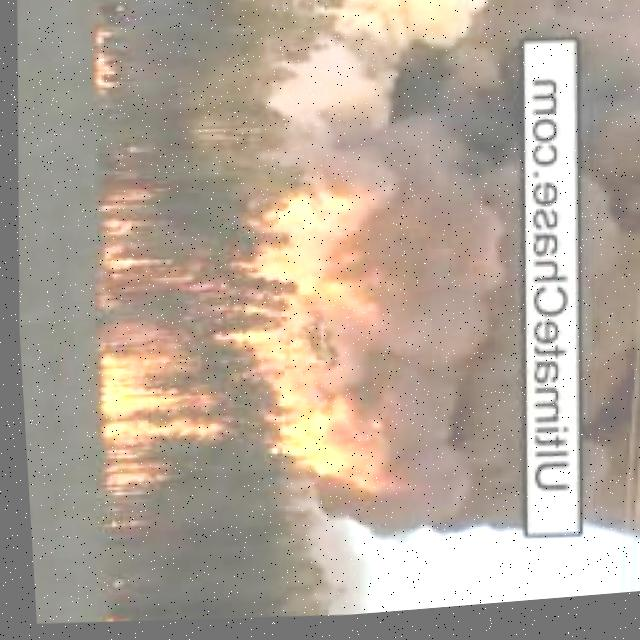Fire: (80, 165, 421, 517), (94, 27, 115, 90), (89, 614, 117, 624)
Smoke: (335, 0, 548, 546), (545, 0, 640, 564)
